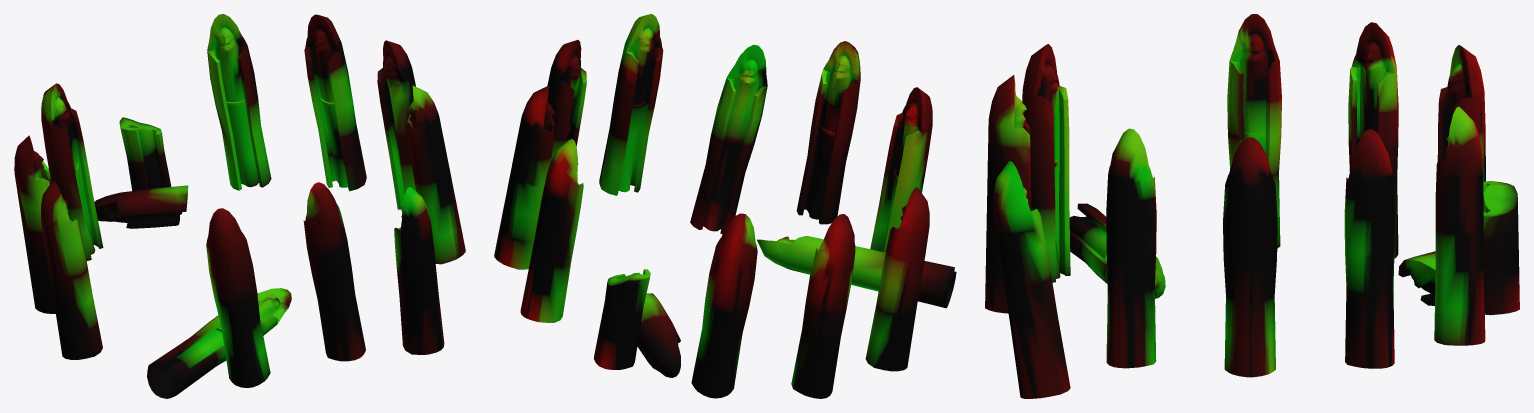
The model's file is castle_sanctum_statues.obj.
3 renders of one model, left to right at view 1: azimuth 30°, elevation 25°; view 2: azimuth 150°, elevation 25°; view 3: azimuth 270°, elevation 25°, orthographic. The views are drawn at different scales.
Parts seen in each view (by area): view 1: Statues; view 2: Statues; view 3: Statues.
Boxes of the visible parts, bbox=[...] form: Statues: bbox=[14, 14, 465, 398]; Statues: bbox=[494, 14, 956, 398]; Statues: bbox=[985, 14, 1519, 398].
Size of the model in its own units: 43.62 by 25.43 by 41.9.
